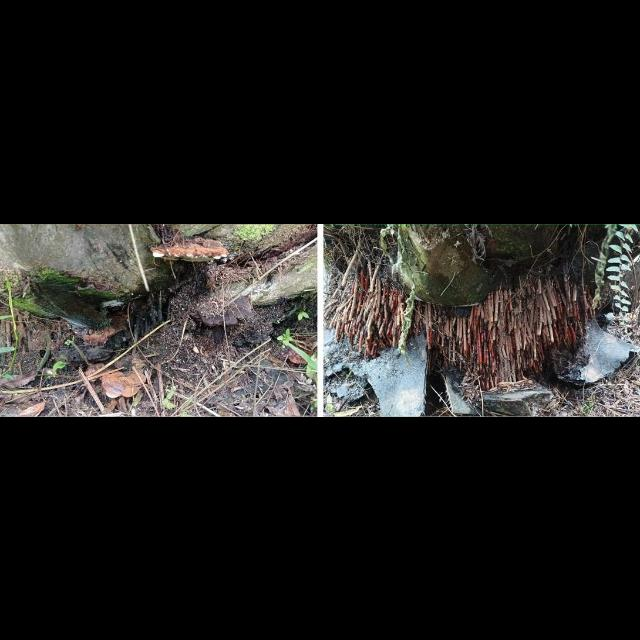ganoderma: (152, 227, 227, 262), (87, 361, 149, 398), (83, 312, 134, 348), (284, 351, 309, 366)
